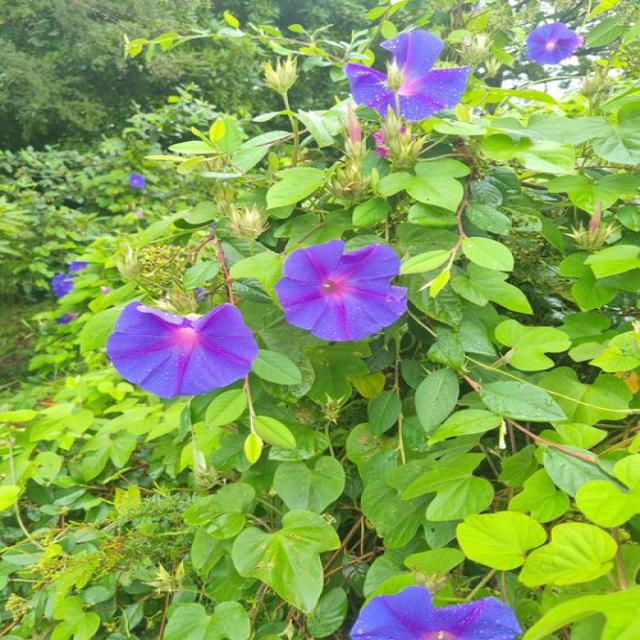ipomoea: (101, 296, 261, 401), (270, 237, 411, 344), (339, 27, 474, 127), (346, 583, 524, 638), (520, 20, 585, 68)
